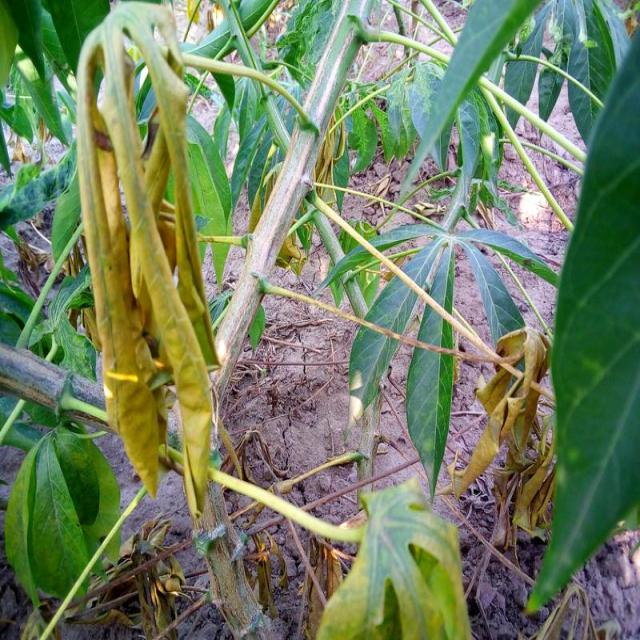cassava leaf: (523, 19, 639, 617), (315, 477, 472, 638), (4, 422, 121, 612), (405, 242, 456, 503)
